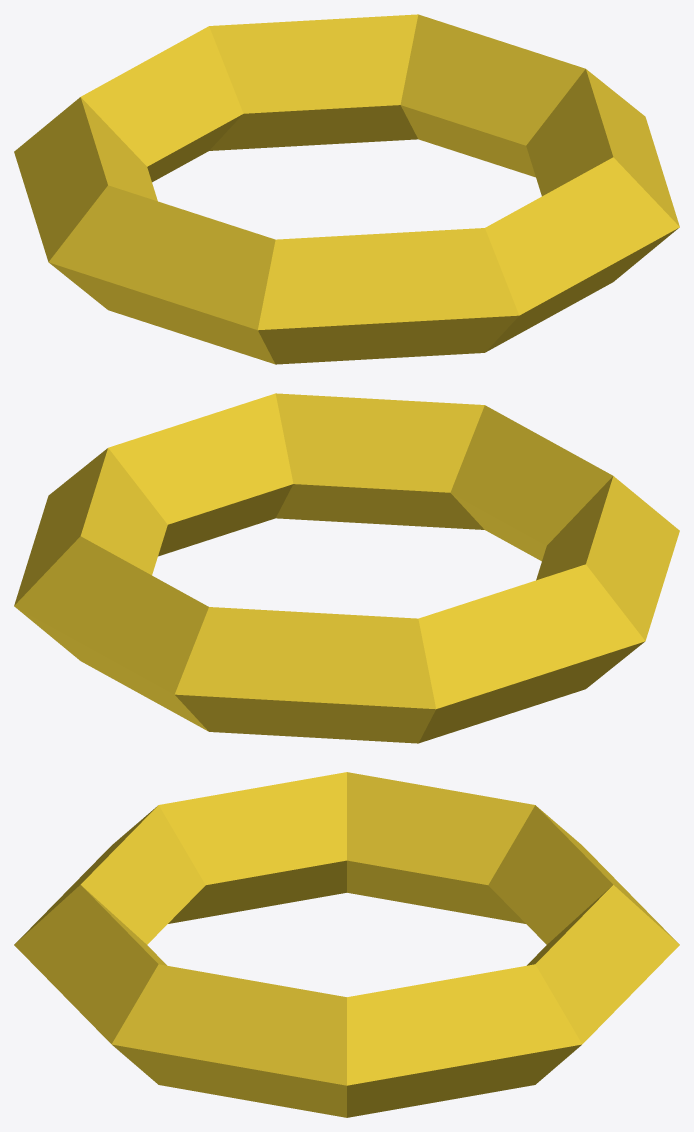
The model's file is anneau.fbx.
The picture shows the model from 3 angles, top to bottom: view 1: azimuth 30°, elevation 25°; view 2: azimuth 150°, elevation 25°; view 3: azimuth 270°, elevation 25°; orthographic projection. The views are drawn at different scales.
Visible parts, largest first — view 1: Torus; view 2: Torus; view 3: Torus.
Boxes of the visible parts, x1,y1,x2,y2 form: Torus: [14, 14, 679, 364]; Torus: [14, 393, 679, 743]; Torus: [14, 772, 679, 1117].
Size of the model in its own units: 250 by 50 by 250.
